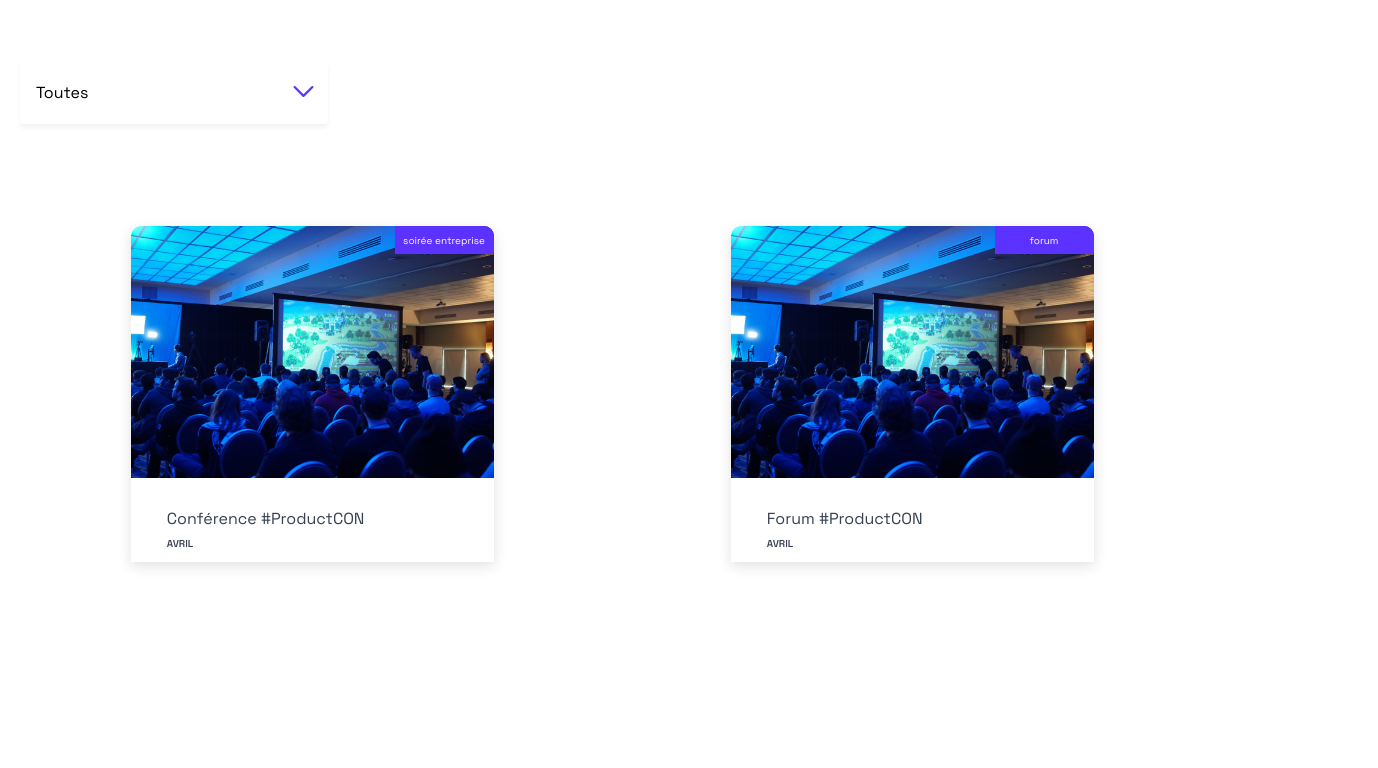
Test: Lorsque Events est créé › et nous cliquons sur un événement › les détails de l'événement sont affichés
Click the text "Conférence #productCON" at (266, 519), box top-left (167, 508), bottom-right (364, 529)
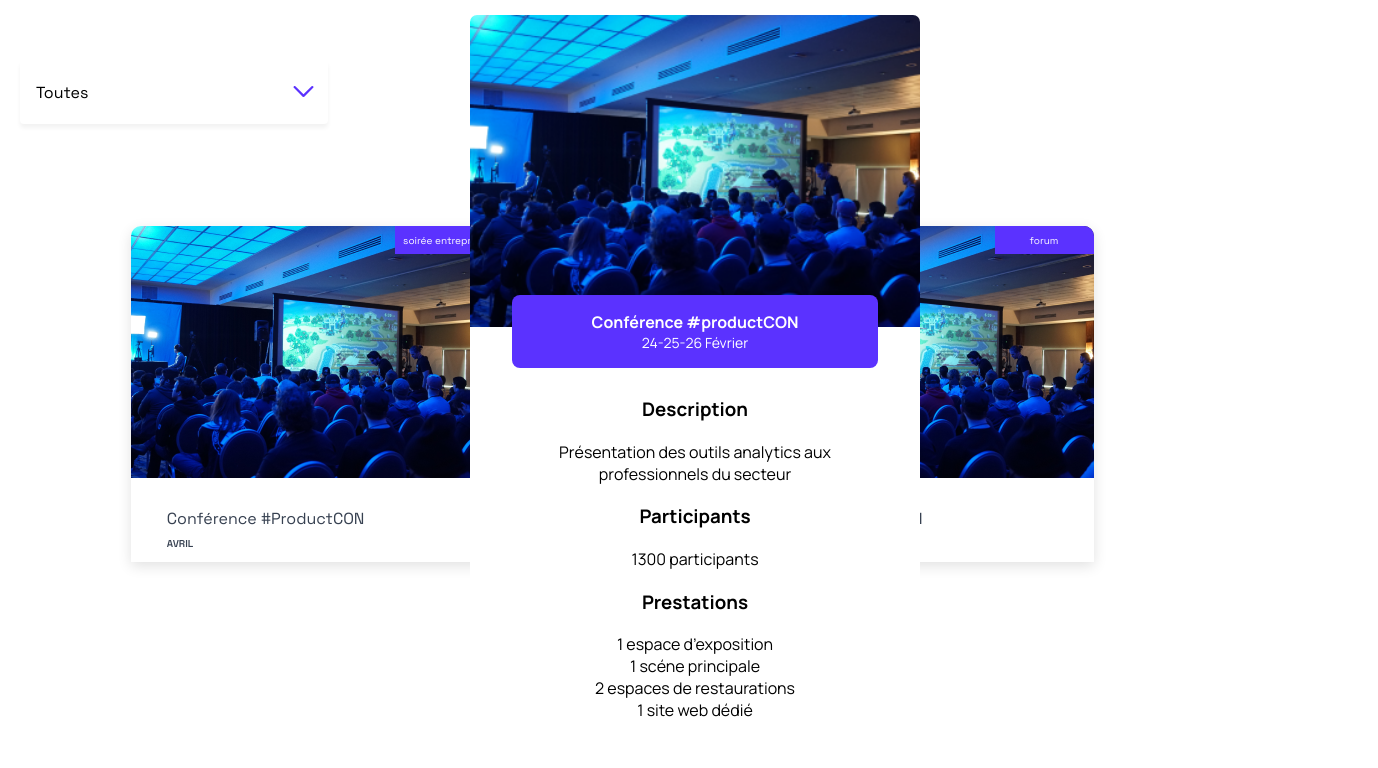
Check: the text "24-25-26 Février" is shown, box top-left (642, 332), bottom-right (748, 352)
Check: the text "1 site web dédié" is shown, box top-left (637, 700), bottom-right (753, 722)
